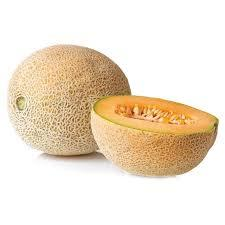Melon Ripe: (9, 45, 130, 154), (91, 95, 217, 174)
